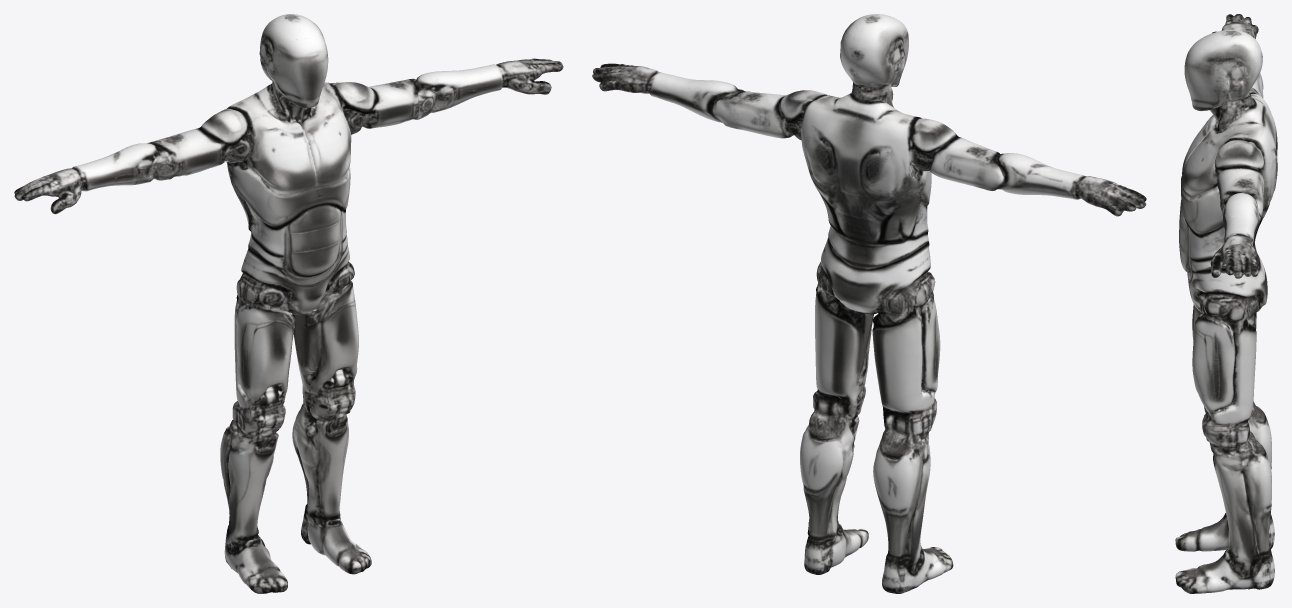
The model's file is t pose robot.glb.
3 renders of one model, left to right at view 1: azimuth 30°, elevation 25°; view 2: azimuth 150°, elevation 25°; view 3: azimuth 270°, elevation 25°, orthographic. The views are drawn at different scales.
Visible parts, largest first — view 1: world; view 2: world; view 3: world.
Part boxes in pixels (x1,y1,x2,y2): world: (14, 14, 563, 593); world: (592, 14, 1146, 593); world: (1175, 14, 1277, 593).
Size of the model in its own units: 1 by 0.9583 by 0.1658.
1 material, 1 textured.
